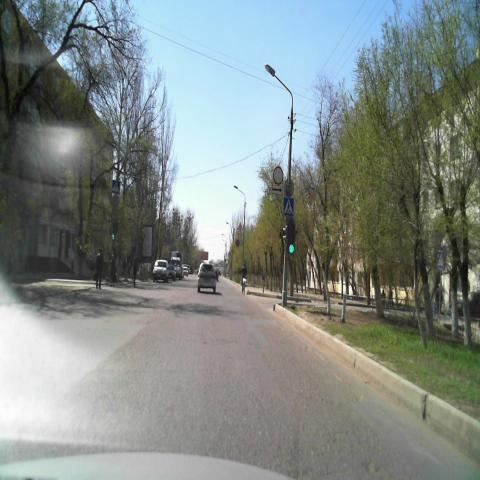3_2: (273, 166, 283, 184)
